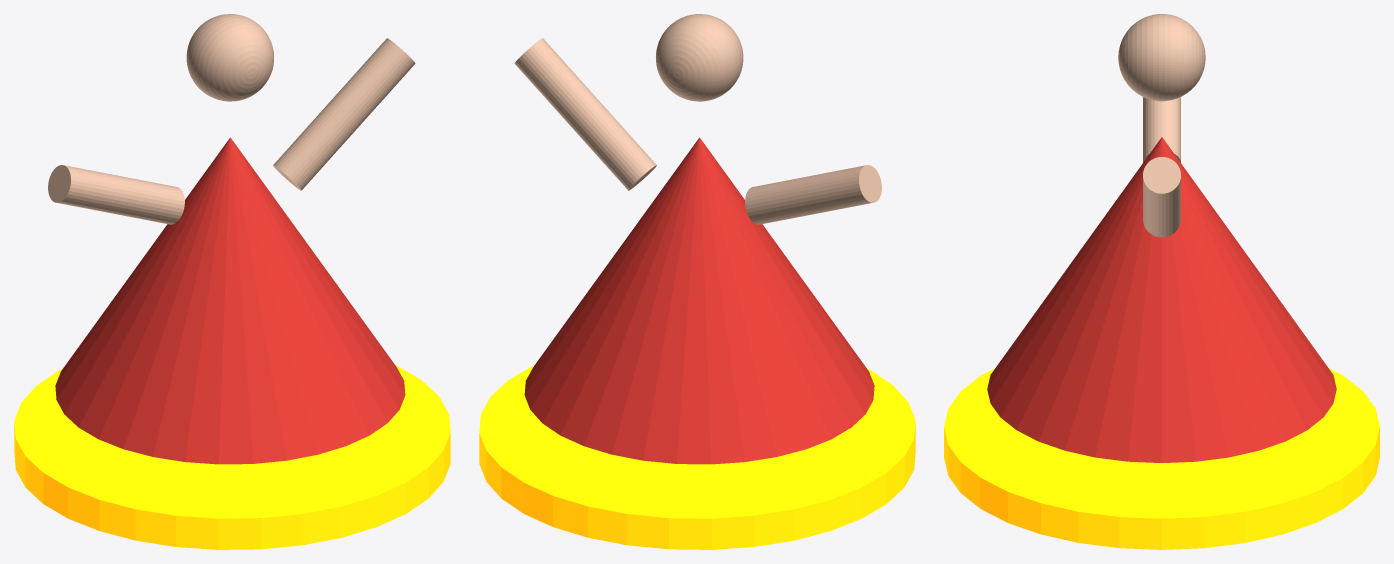
File: spanish_flamenco_dancer.glb
3 views of the same model, side by side, from view 1: azimuth 30°, elevation 25°; view 2: azimuth 150°, elevation 25°; view 3: azimuth 270°, elevation 25° (orthographic).
Visible parts, largest first — view 1: 11_02_Popular_Spanish_Flamenco_Dancer_part_02, 11_02_Popular_Spanish_Flamenco_Dancer_ROOT_base, 11_02_Popular_Spanish_Flamenco_Dancer_part_04, 11_02_Popular_Spanish_Flamenco_Dancer_part_01, 11_02_Popular_Spanish_Flamenco_Dancer_part_03; view 2: 11_02_Popular_Spanish_Flamenco_Dancer_part_02, 11_02_Popular_Spanish_Flamenco_Dancer_ROOT_base, 11_02_Popular_Spanish_Flamenco_Dancer_part_04, 11_02_Popular_Spanish_Flamenco_Dancer_part_01, 11_02_Popular_Spanish_Flamenco_Dancer_part_03; view 3: 11_02_Popular_Spanish_Flamenco_Dancer_part_02, 11_02_Popular_Spanish_Flamenco_Dancer_ROOT_base, 11_02_Popular_Spanish_Flamenco_Dancer_part_01, 11_02_Popular_Spanish_Flamenco_Dancer_part_04, 11_02_Popular_Spanish_Flamenco_Dancer_part_03.
Part boxes in pixels (x1,y1,x2,y2): 11_02_Popular_Spanish_Flamenco_Dancer_part_02: (55,137,405,464); 11_02_Popular_Spanish_Flamenco_Dancer_ROOT_base: (14,365,450,549); 11_02_Popular_Spanish_Flamenco_Dancer_part_04: (273,38,415,190); 11_02_Popular_Spanish_Flamenco_Dancer_part_01: (186,14,273,101); 11_02_Popular_Spanish_Flamenco_Dancer_part_03: (48,165,184,224); 11_02_Popular_Spanish_Flamenco_Dancer_part_02: (524,137,874,464); 11_02_Popular_Spanish_Flamenco_Dancer_ROOT_base: (479,365,915,549); 11_02_Popular_Spanish_Flamenco_Dancer_part_04: (514,38,656,190); 11_02_Popular_Spanish_Flamenco_Dancer_part_01: (656,14,743,101); 11_02_Popular_Spanish_Flamenco_Dancer_part_03: (745,165,881,224); 11_02_Popular_Spanish_Flamenco_Dancer_part_02: (987,137,1336,462); 11_02_Popular_Spanish_Flamenco_Dancer_ROOT_base: (944,368,1379,549); 11_02_Popular_Spanish_Flamenco_Dancer_part_01: (1118,14,1205,101); 11_02_Popular_Spanish_Flamenco_Dancer_part_04: (1143,157,1180,237); 11_02_Popular_Spanish_Flamenco_Dancer_part_03: (1143,97,1180,162).
Size of the model in its own units: 0.76 by 0.8442 by 0.76.
